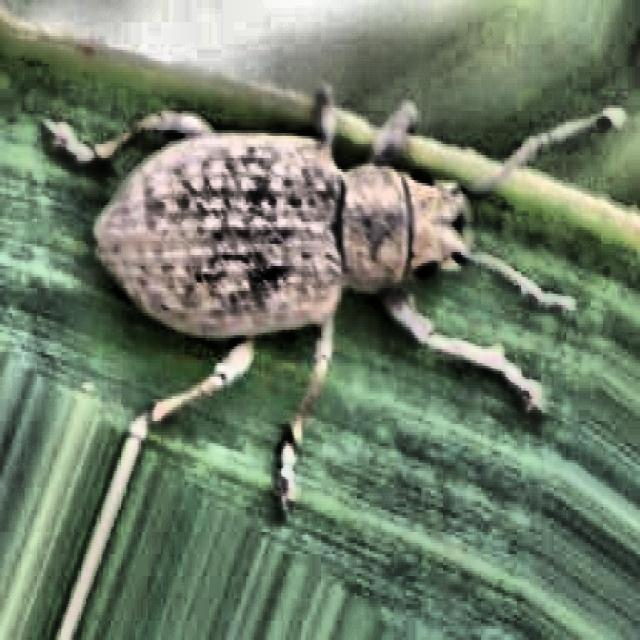Stink bug: (83, 7, 550, 518)
